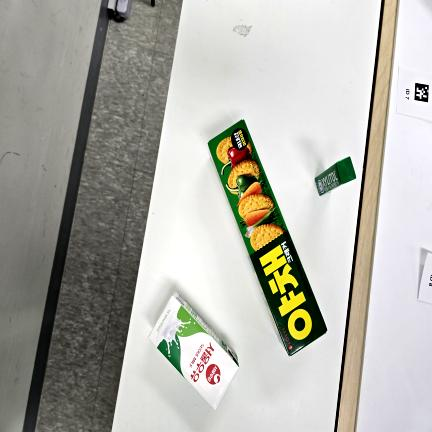cracker_vege: (208, 120, 327, 356)
gum_green: (315, 157, 356, 196)
milk_green: (149, 292, 239, 409)
